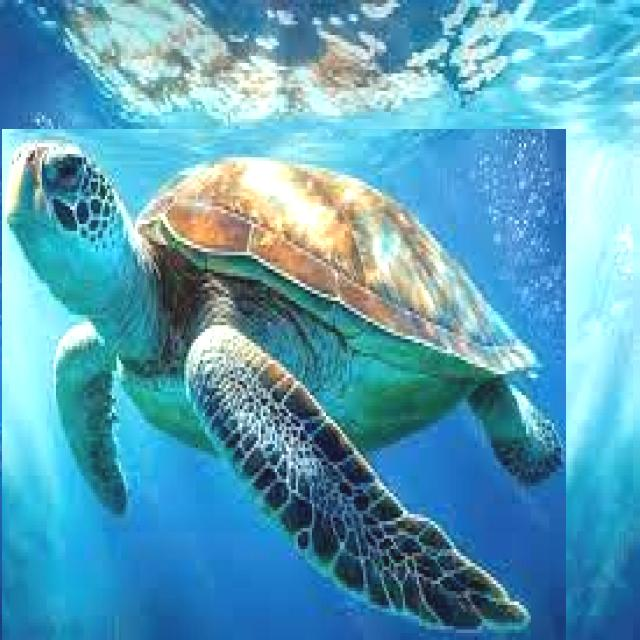Sea turtle: (2, 129, 566, 640)
